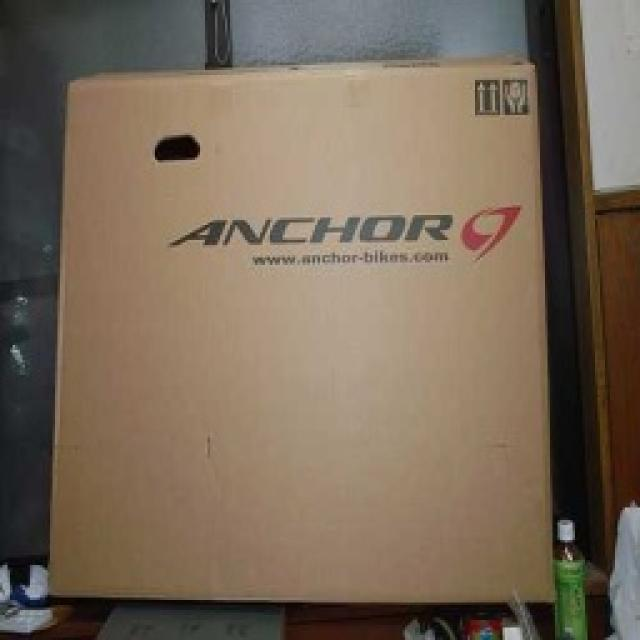box: (40, 62, 563, 613)
